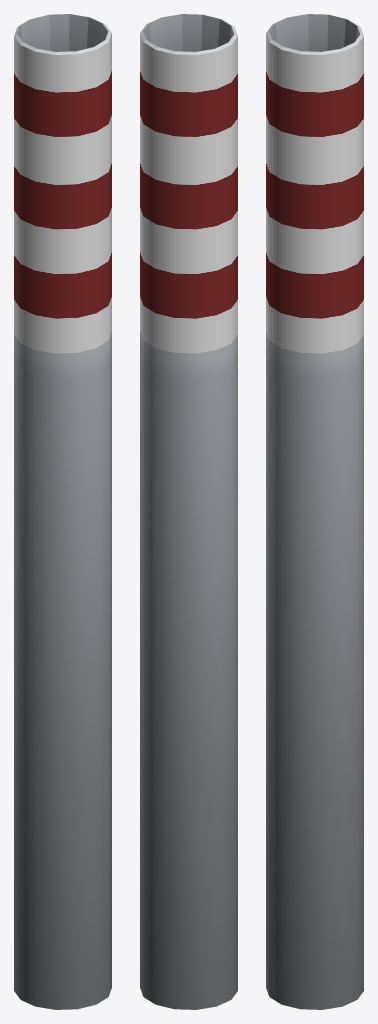
File: industrial_plant_chimney_02.fbx
3 views of the same model, side by side, from view 1: azimuth 30°, elevation 25°; view 2: azimuth 150°, elevation 25°; view 3: azimuth 330°, elevation 25° (orthographic).
Parts seen in each view (by area): view 1: ind:chimneys_02; view 2: ind:chimneys_02; view 3: ind:chimneys_02.
Boxes of the visible parts, x1=… form: ind:chimneys_02: x1=14, y1=14, x2=111, y2=1009; ind:chimneys_02: x1=140, y1=14, x2=237, y2=1009; ind:chimneys_02: x1=266, y1=14, x2=363, y2=1009.
Size of the model in its own units: 3.33 by 35.84 by 3.24.
